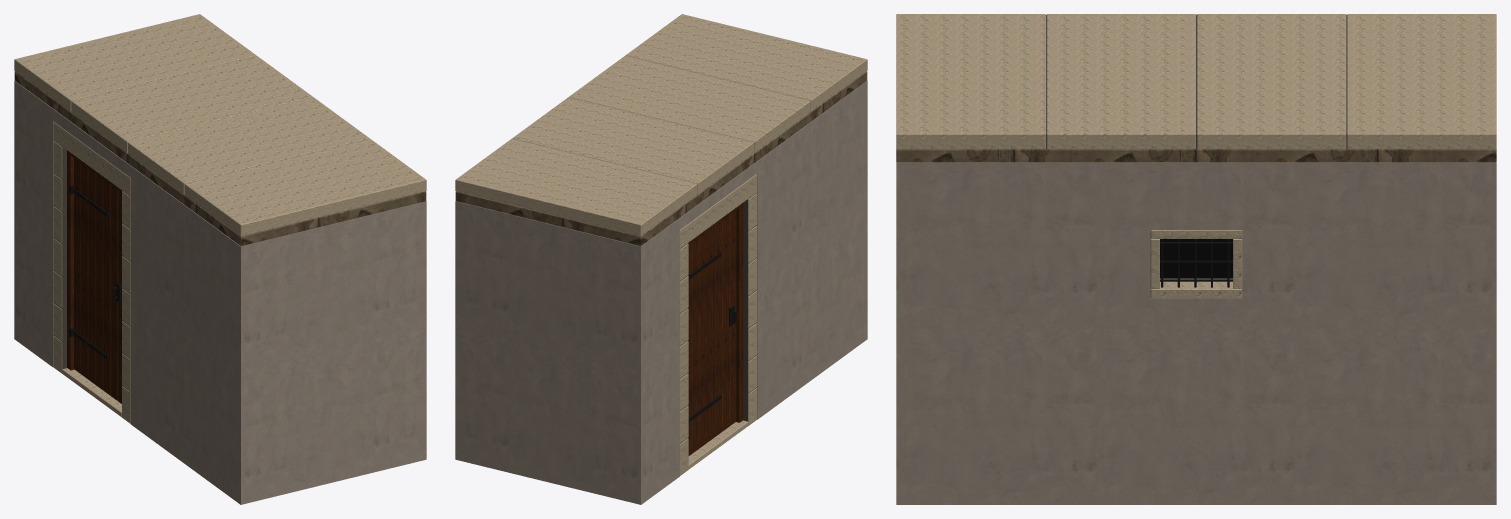
Rendered from b18-roof-access.glb.
3 views of the same model, side by side, from view 1: azimuth 30°, elevation 25°; view 2: azimuth 150°, elevation 25°; view 3: azimuth 270°, elevation 25° (orthographic). The views are drawn at different scales.
Parts seen in each view (by area): view 1: B18 closed roof-access room; view 2: B18 closed roof-access room; view 3: B18 closed roof-access room.
Boxes of the visible parts, x1=… form: B18 closed roof-access room: x1=14, y1=14, x2=426, y2=504; B18 closed roof-access room: x1=455, y1=14, x2=867, y2=504; B18 closed roof-access room: x1=896, y1=14, x2=1496, y2=504.
Bounding box in the file's own units: 1.8 × 2.59 × 3.8.
2 materials, 2 textured.
